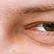eye: (43, 23, 54, 31)
